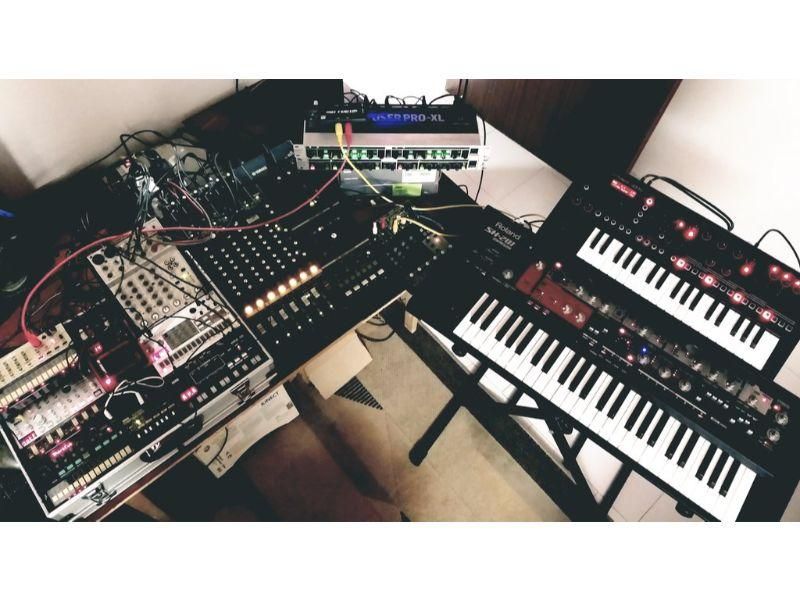synthesizer: (393, 362, 781, 496), (526, 168, 785, 337)
